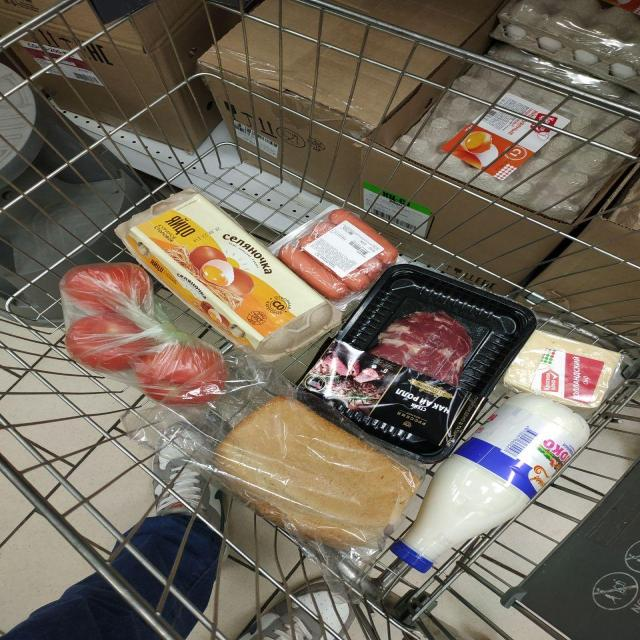Bread: (215, 395, 418, 549)
Cheese: (505, 330, 622, 407)
Eggs: (117, 189, 340, 360)
Meat: (300, 264, 537, 462)
Milk: (390, 392, 590, 572)
Sausages: (270, 205, 398, 308)
Tomatoes: (133, 339, 227, 404), (65, 312, 155, 371), (60, 262, 153, 312)
